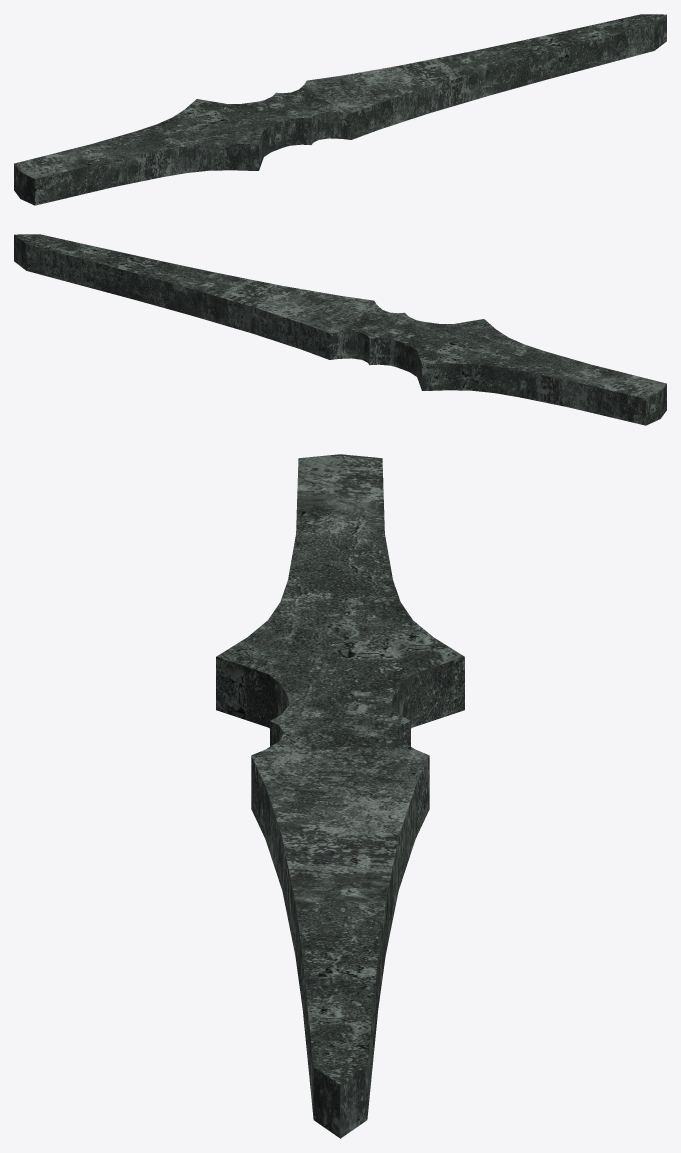
The picture shows the model from 3 angles, top to bottom: view 1: azimuth 30°, elevation 25°; view 2: azimuth 150°, elevation 25°; view 3: azimuth 270°, elevation 25°; orthographic projection. The views are drawn at different scales.
Parts seen in each view (by area): view 1: mg_9_object_2; view 2: mg_9_object_2; view 3: mg_9_object_2.
Boxes of the visible parts, <box> form: mg_9_object_2: <box>14,14,666,205</box>; mg_9_object_2: <box>14,234,666,425</box>; mg_9_object_2: <box>216,454,464,1138</box>.
Bounding box in the file's own units: 1540 × 60.83 × 256.
